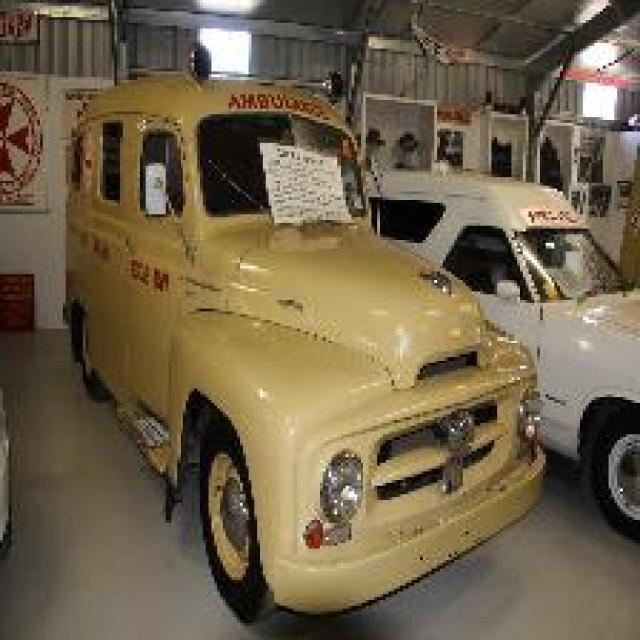Ambulance: (60, 48, 549, 623)
Car: (366, 166, 637, 548)
